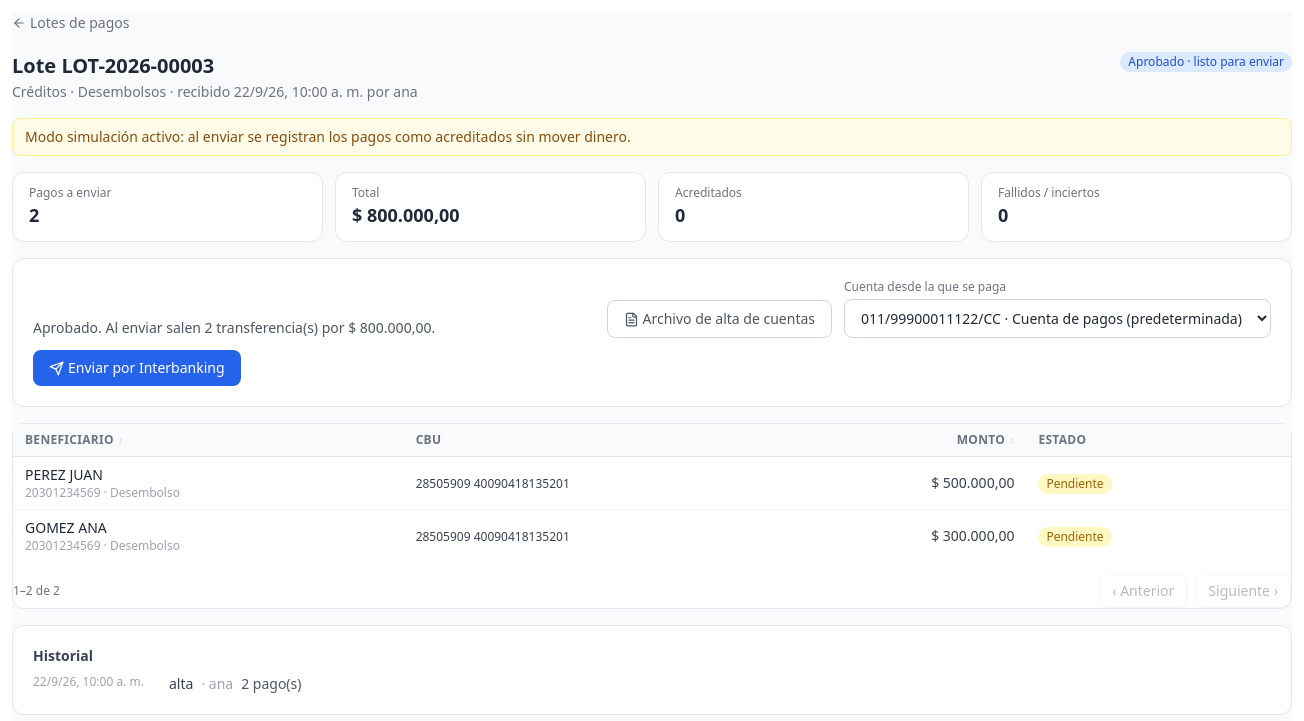
Test: LotePage › archivo de alta de cuentas para Interbanking › desde el lote aprobado baja el archivo con todas las cuentas y dice dónde subirlo
Click the button "Archivo de alta de cuentas": [719, 319] box x1=606 y1=300 x2=832 y2=338
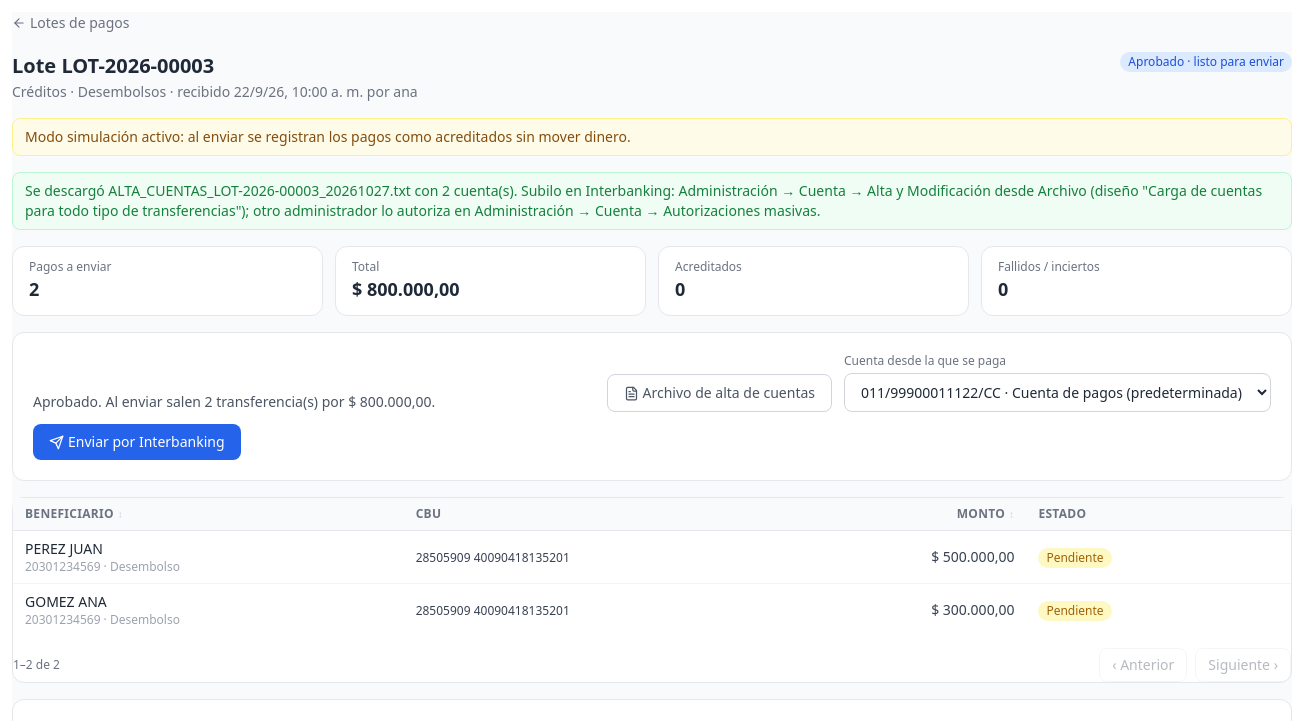
Check: the text "Alta y Modificación desde Archivo" is shown, box x1=25 y1=181 x2=1262 y2=220
